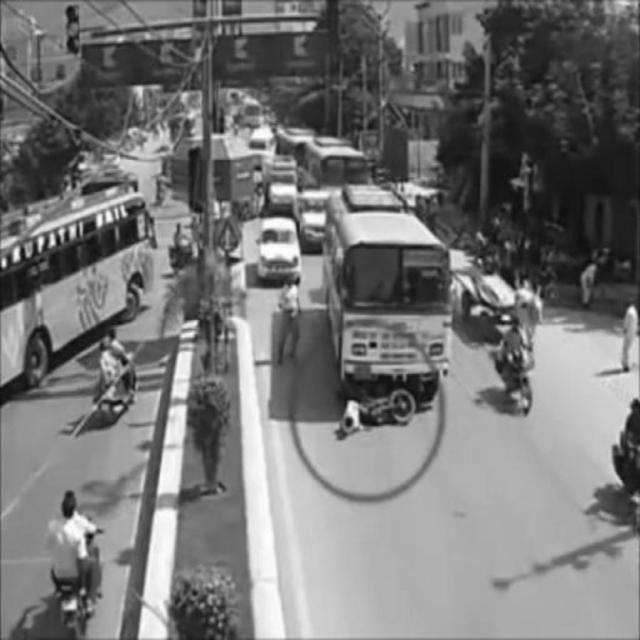accident: (329, 193, 451, 441)
person: (274, 273, 301, 369)
vehicle: (0, 175, 159, 386), (52, 490, 104, 631), (96, 329, 136, 422), (497, 317, 535, 413), (259, 217, 303, 283)
